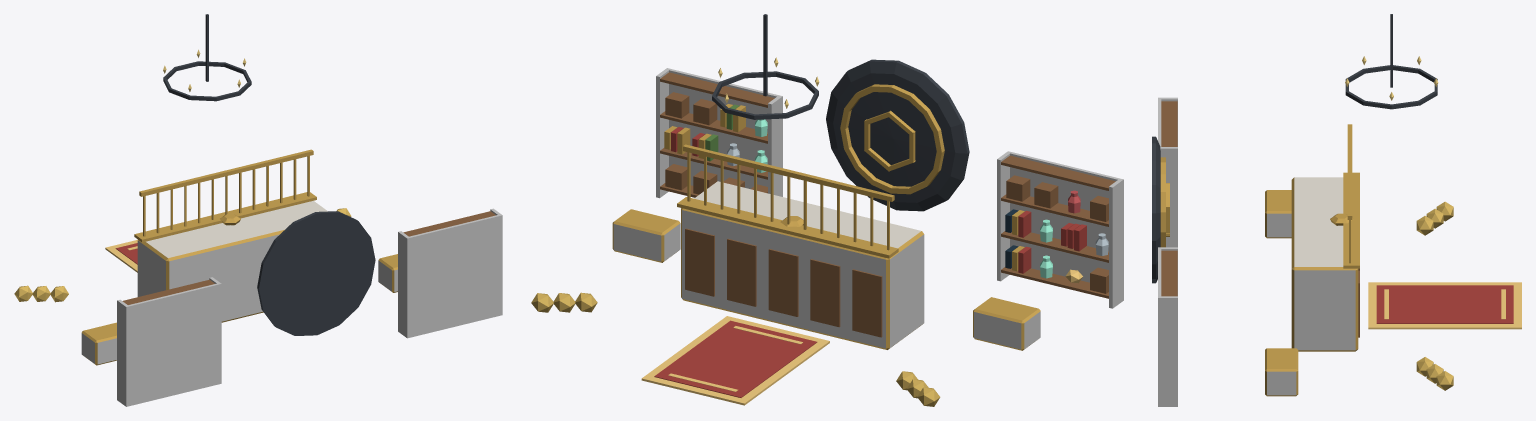
The model's file is BankInterior.obj.
3 views of the same model, side by side, from view 1: azimuth 30°, elevation 25°; view 2: azimuth 150°, elevation 25°; view 3: azimuth 270°, elevation 25° (orthographic). The views are drawn at different scales.
Bounding box in the file's own units: 14.2 × 9.66 × 11.08.
